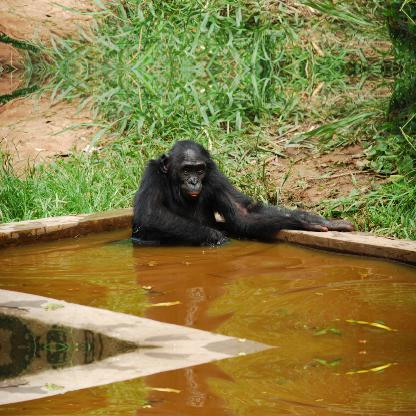Monkey: (134, 140, 338, 254)
